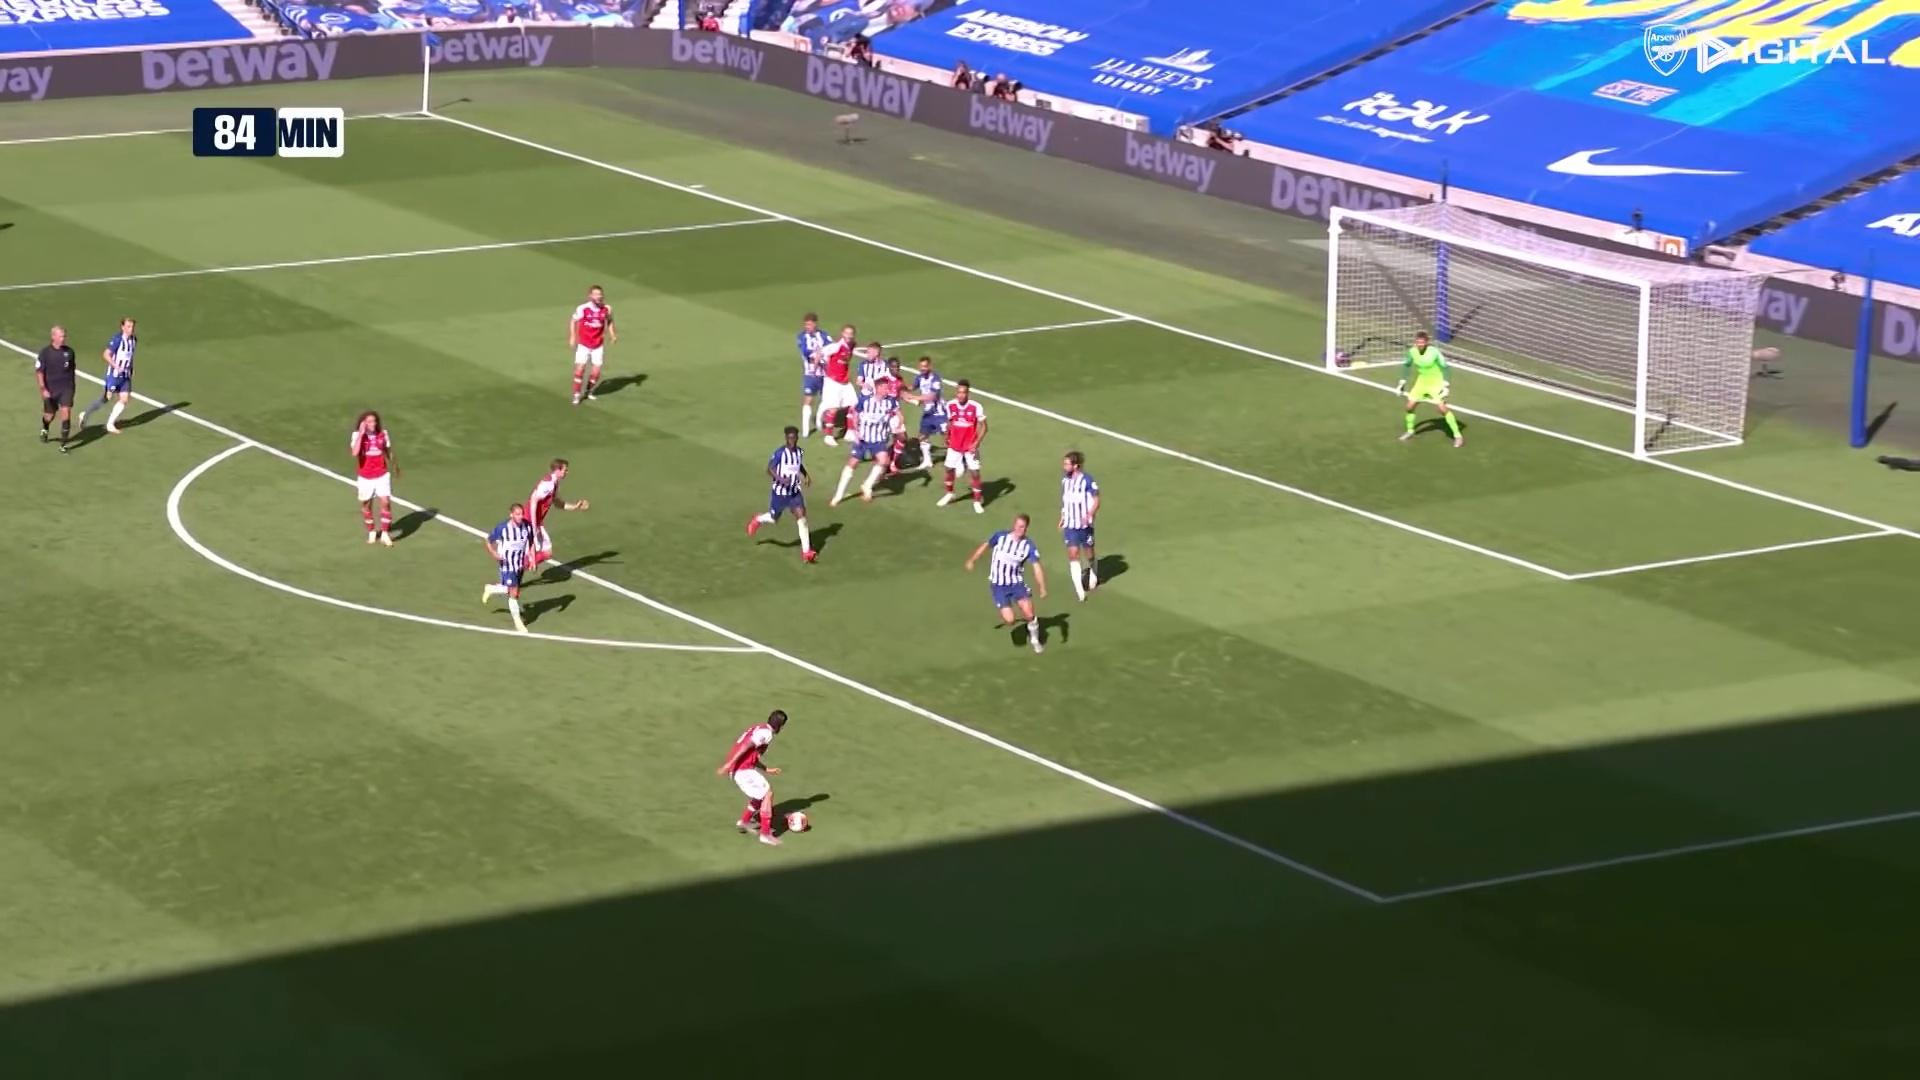ball: (787, 811, 810, 832)
